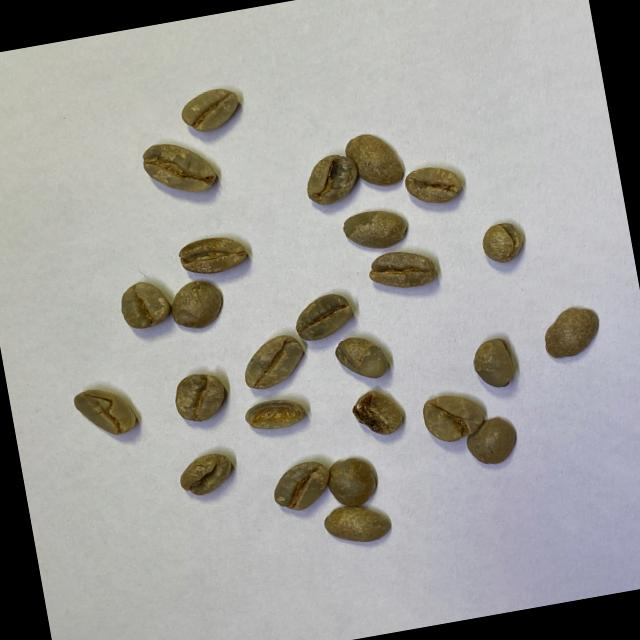bad: (139, 134, 220, 201), (72, 382, 138, 442), (420, 389, 488, 446), (301, 150, 362, 208), (170, 370, 230, 426), (348, 384, 406, 440), (176, 451, 237, 498), (242, 394, 307, 434)
good: (239, 332, 308, 392), (342, 128, 406, 192), (270, 456, 334, 514), (539, 302, 603, 359), (340, 204, 410, 254), (167, 276, 227, 334), (322, 500, 394, 548), (177, 230, 250, 277), (177, 84, 244, 135), (366, 245, 438, 292), (291, 290, 355, 342), (323, 454, 380, 510), (462, 414, 520, 468), (332, 331, 390, 384), (116, 278, 172, 332), (402, 161, 464, 208), (469, 336, 518, 392), (478, 219, 526, 266)
